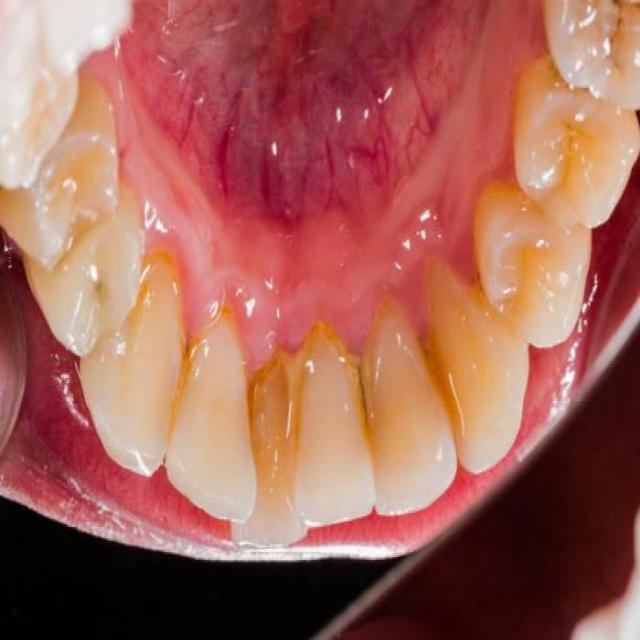CALCULUS: (246, 361, 294, 464), (331, 335, 378, 423), (429, 318, 460, 421), (182, 330, 201, 384)
